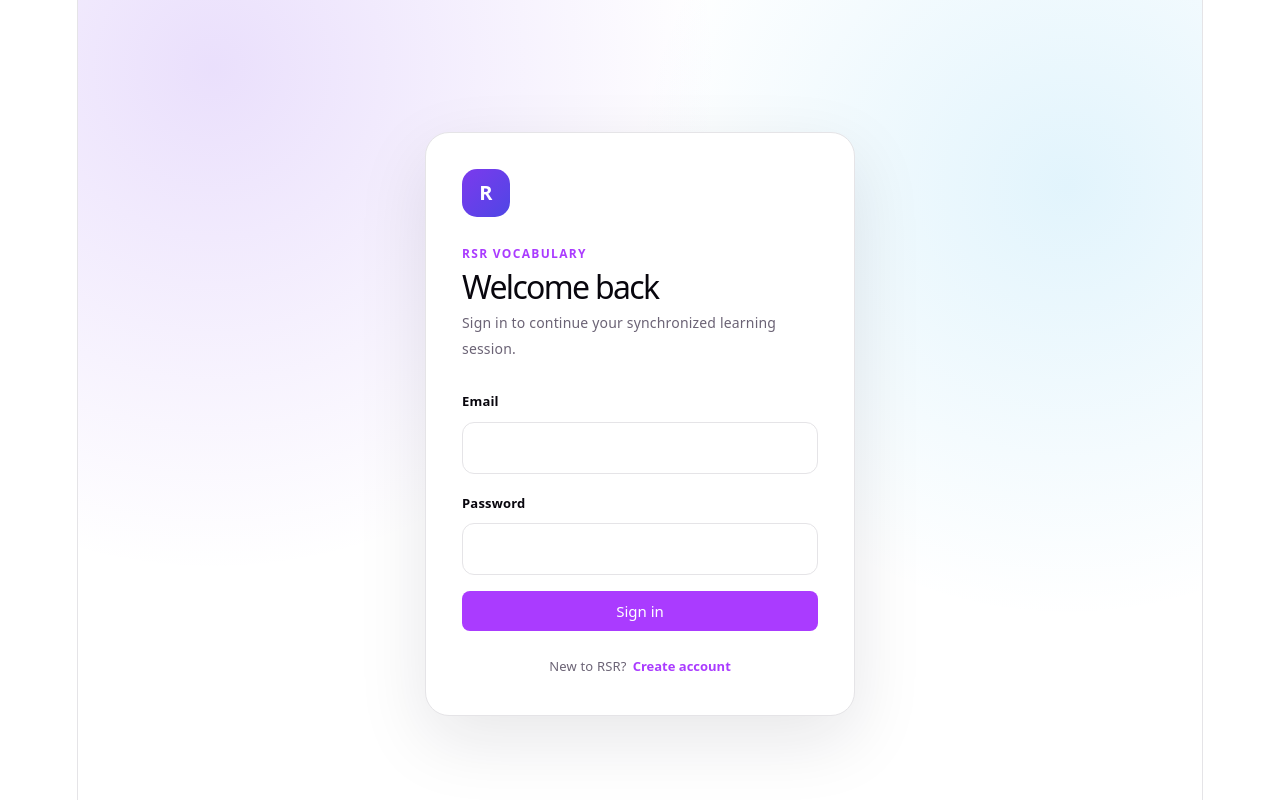
Test case: AppGate authentication › shows a rejected sign-in and restores the form controls
Type "learner@example.com" into the field labelled "Email". click: [640, 448]
box: 462,422 -> 818,474
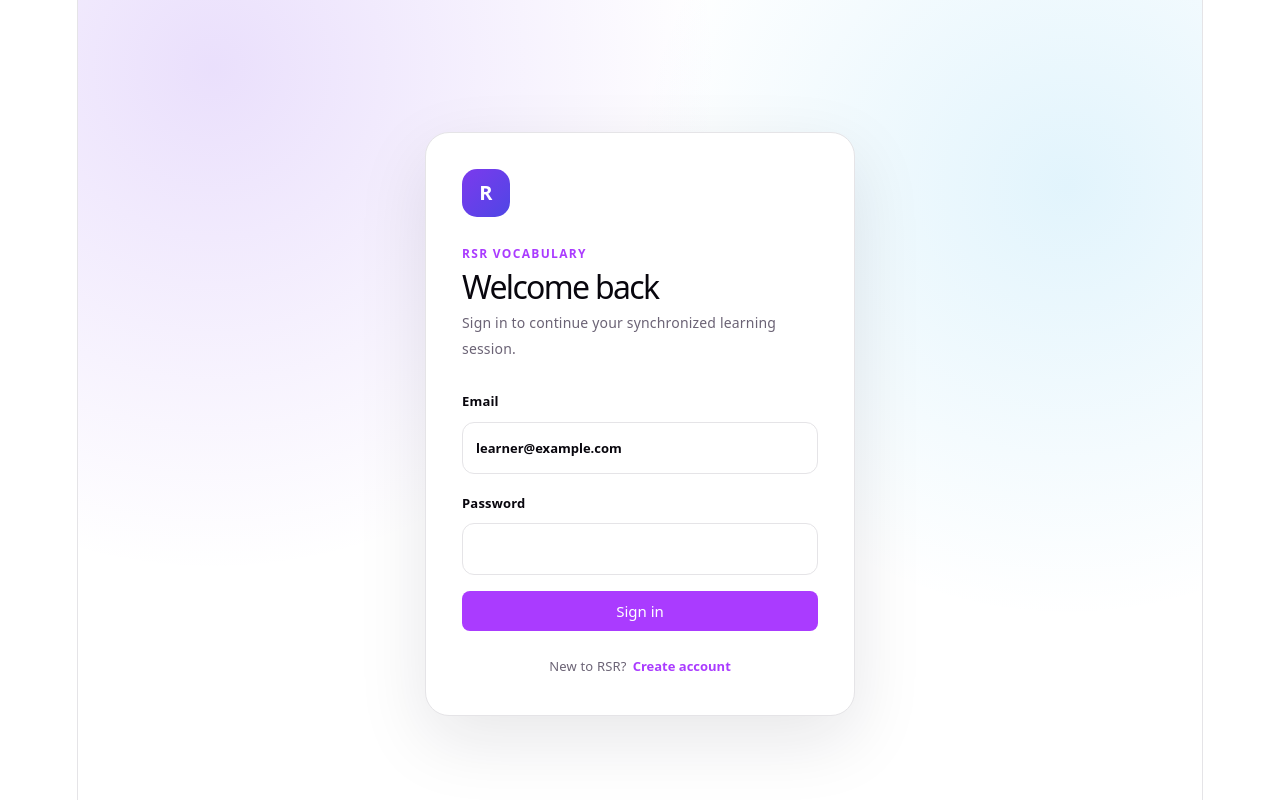
Type "correct-horse-battery-staple" into the password field labelled "Password". click: [640, 549]
box: 462,523 -> 818,575
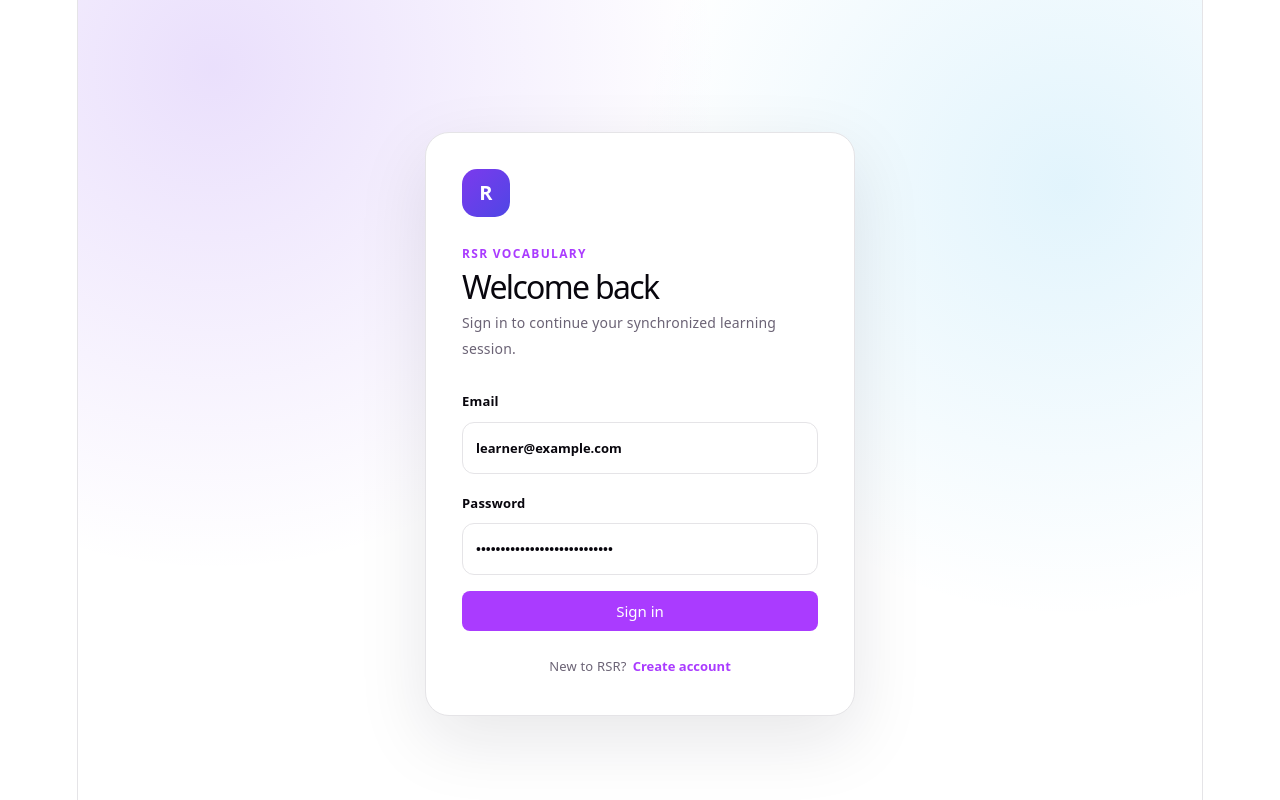
Click the button "Sign in". click: [640, 611]
box: 462,591 -> 818,631
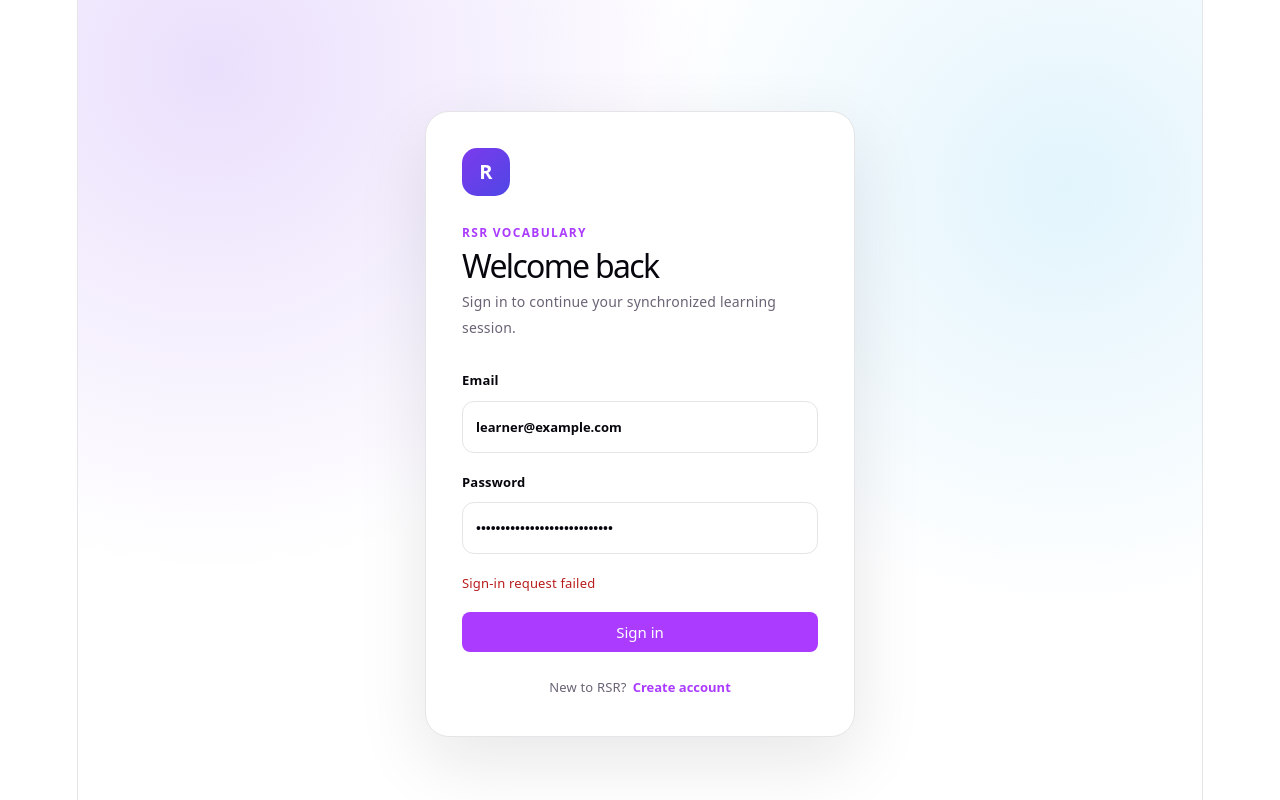
Expected: the button "Sign in" is enabled, 462,612 -> 818,652
Result: the message reads "Sign-in request failed" at 462,574 -> 595,592
